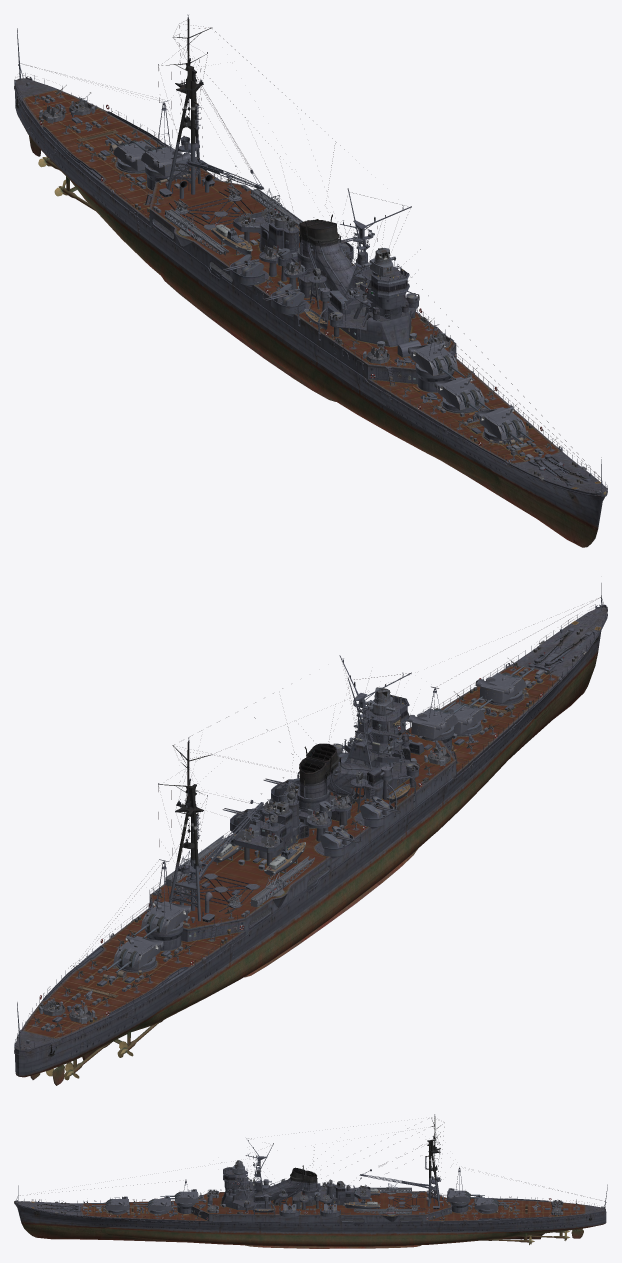
File: japanese_light_cruiser_9-ooi-maximum-compressed.glb
3 views of the same model, one above another, from view 1: azimuth 30°, elevation 25°; view 2: azimuth 150°, elevation 25°; view 3: azimuth 270°, elevation 25° (orthographic). The views are drawn at different scales.
Parts seen in each view (by area): view 1: JSC012_Ibuki_1944_midfront_Ibuki_jsc012_ibuki_1944_hull_947_, JSC012_Ibuki_1944_midfront, JSC012_Ibuki_1944_midfront_Atago_jgm024_203mm50_type_e_rf_sk, JSC012_Ibuki_1944_midfront_Ibuki_jsc012_ibuki_1944_hull_wire, JSC012_Ibuki_1944_midfront_Ibuki_jc001_catapult_shiki2_skinn, JSC012_Ibuki_1944_midfront_Ibuki_jgs076_100mm65_type98_skinn, JSC012_Ibuki_1944_midfront_Worcester_AGM077_6in47_MK16_skinn; view 2: JSC012_Ibuki_1944_midfront_Ibuki_jsc012_ibuki_1944_hull_947_, JSC012_Ibuki_1944_midfront, JSC012_Ibuki_1944_midfront_Atago_jgm024_203mm50_type_e_rf_sk, JSC012_Ibuki_1944_midfront_Ibuki_jsc012_ibuki_1944_hull_wire, JSC012_Ibuki_1944_midfront_Ibuki_jgs076_100mm65_type98_skinn, JSC012_Ibuki_1944_midfront_Ibuki_jc001_catapult_shiki2_skinn, JSC012_Ibuki_1944_midfront_Worcester_AGM077_6in47_MK16_skinn; view 3: JSC012_Ibuki_1944_midfront_Ibuki_jsc012_ibuki_1944_hull_947_, JSC012_Ibuki_1944_midfront, JSC012_Ibuki_1944_midfront_Atago_jgm024_203mm50_type_e_rf_sk, JSC012_Ibuki_1944_midfront_Ibuki_jsc012_ibuki_1944_hull_wire, JSC012_Ibuki_1944_midfront_Ibuki_jc001_catapult_shiki2_skinn, JSC012_Ibuki_1944_midfront_Worcester_AGM077_6in47_MK16_skinn, JSC012_Ibuki_1944_midfront_Ibuki_jgs076_100mm65_type98_skinn.
Part boxes in pixels (bbox=[...]): JSC012_Ibuki_1944_midfront_Ibuki_jsc012_ibuki_1944_hull_947_: bbox=[14, 19, 607, 547]; JSC012_Ibuki_1944_midfront: bbox=[15, 14, 606, 494]; JSC012_Ibuki_1944_midfront_Atago_jgm024_203mm50_type_e_rf_sk: bbox=[113, 138, 526, 440]; JSC012_Ibuki_1944_midfront_Ibuki_jsc012_ibuki_1944_hull_wire: bbox=[15, 19, 607, 492]; JSC012_Ibuki_1944_midfront_Ibuki_jc001_catapult_shiki2_skinn: bbox=[164, 188, 302, 255]; JSC012_Ibuki_1944_midfront_Ibuki_jgs076_100mm65_type98_skinn: bbox=[223, 236, 400, 306]; JSC012_Ibuki_1944_midfront_Worcester_AGM077_6in47_MK16_skinn: bbox=[105, 133, 534, 444]; JSC012_Ibuki_1944_midfront_Ibuki_jsc012_ibuki_1944_hull_947_: bbox=[14, 583, 607, 1085]; JSC012_Ibuki_1944_midfront: bbox=[17, 621, 601, 1080]; JSC012_Ibuki_1944_midfront_Atago_jgm024_203mm50_type_e_rf_sk: bbox=[113, 671, 526, 969]; JSC012_Ibuki_1944_midfront_Ibuki_jsc012_ibuki_1944_hull_wire: bbox=[15, 597, 607, 1059]; JSC012_Ibuki_1944_midfront_Ibuki_jgs076_100mm65_type98_skinn: bbox=[222, 778, 400, 848]; JSC012_Ibuki_1944_midfront_Ibuki_jc001_catapult_shiki2_skinn: bbox=[164, 835, 314, 907]; JSC012_Ibuki_1944_midfront_Worcester_AGM077_6in47_MK16_skinn: bbox=[106, 665, 534, 972]; JSC012_Ibuki_1944_midfront_Ibuki_jsc012_ibuki_1944_hull_947_: bbox=[14, 1117, 607, 1248]; JSC012_Ibuki_1944_midfront: bbox=[14, 1114, 606, 1246]; JSC012_Ibuki_1944_midfront_Atago_jgm024_203mm50_type_e_rf_sk: bbox=[106, 1188, 497, 1210]; JSC012_Ibuki_1944_midfront_Ibuki_jsc012_ibuki_1944_hull_wire: bbox=[15, 1118, 605, 1224]; JSC012_Ibuki_1944_midfront_Ibuki_jc001_catapult_shiki2_skinn: bbox=[353, 1185, 411, 1215]; JSC012_Ibuki_1944_midfront_Worcester_AGM077_6in47_MK16_skinn: bbox=[91, 1191, 512, 1208]; JSC012_Ibuki_1944_midfront_Ibuki_jgs076_100mm65_type98_skinn: bbox=[283, 1180, 336, 1213].
Size of the model in its own units: 0.018 by 0.0311 by 0.1343.
Materials: 73 (73 with a texture image).
